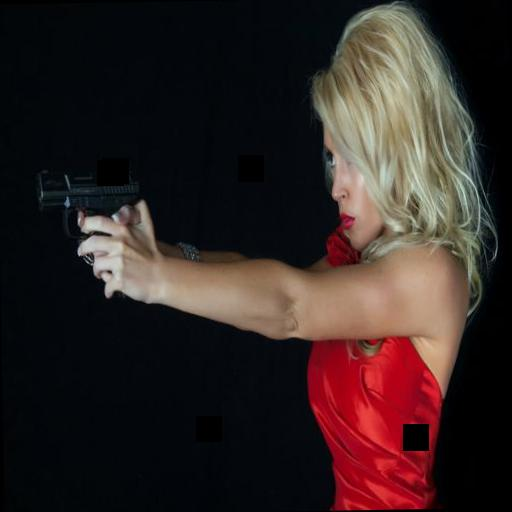Handgun: (34, 161, 148, 300)
